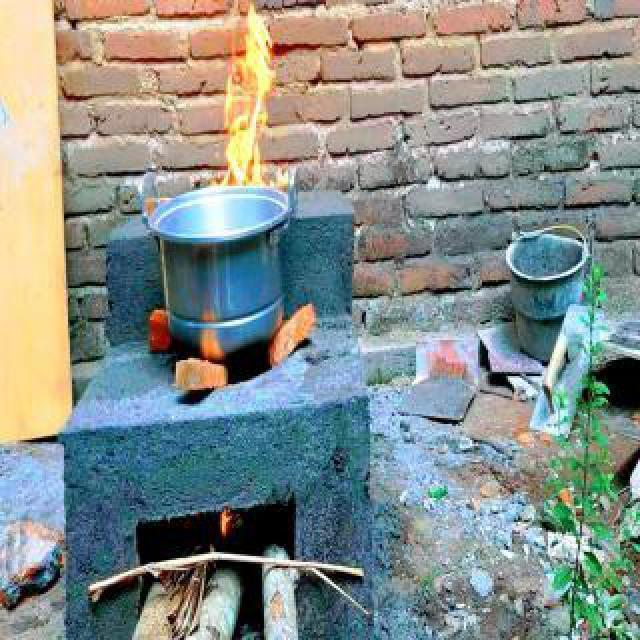Fire: (208, 8, 292, 210), (190, 296, 226, 368), (214, 494, 233, 540)
